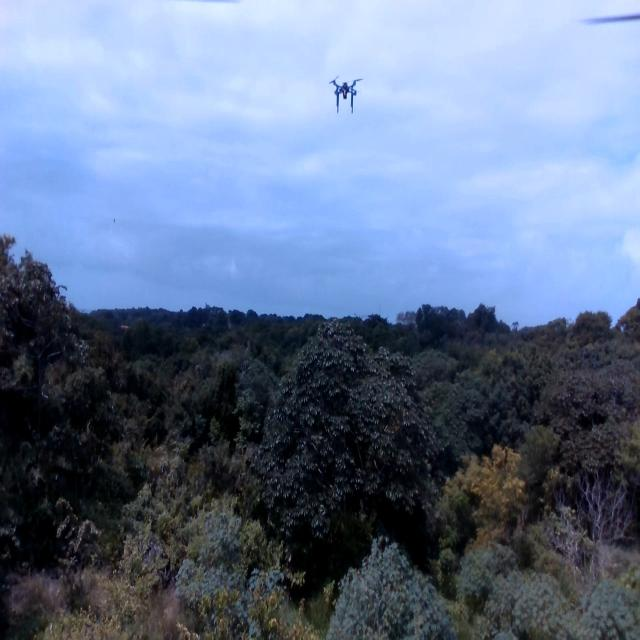-uav-: (324, 62, 367, 120)
